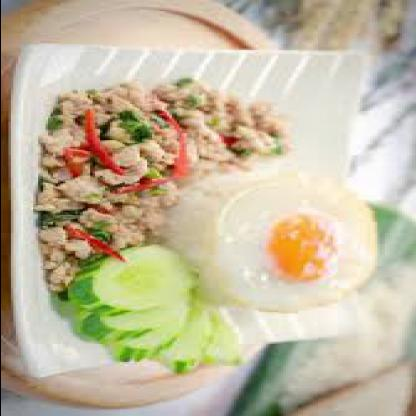Basil Rice: (2, 66, 376, 354)
